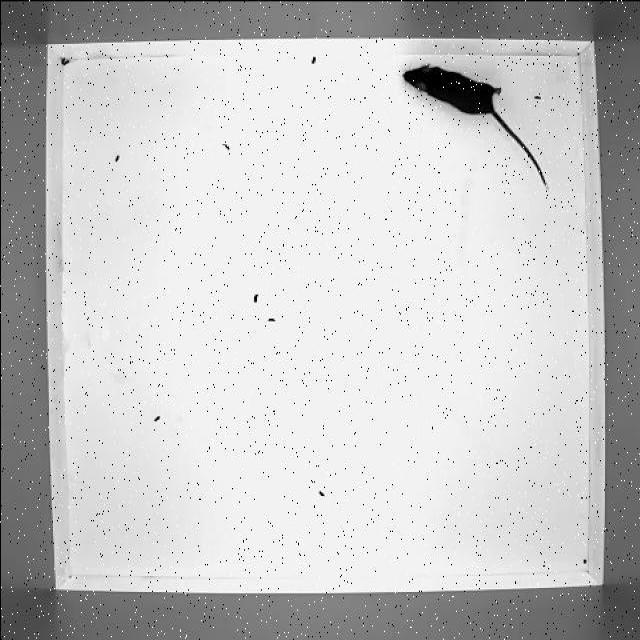rat: (393, 57, 551, 194)
